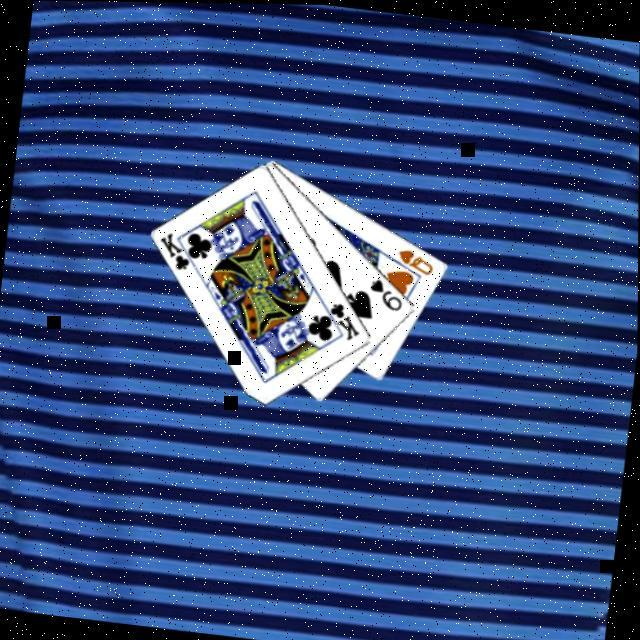9S: (366, 274, 407, 313)
KC: (318, 297, 367, 344), (155, 228, 204, 275)
QH: (394, 245, 439, 278)
